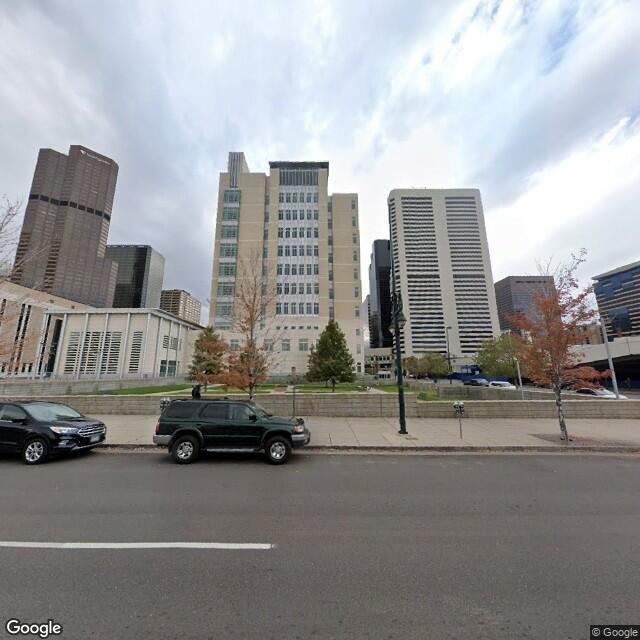lamp: (384, 246, 417, 435)
